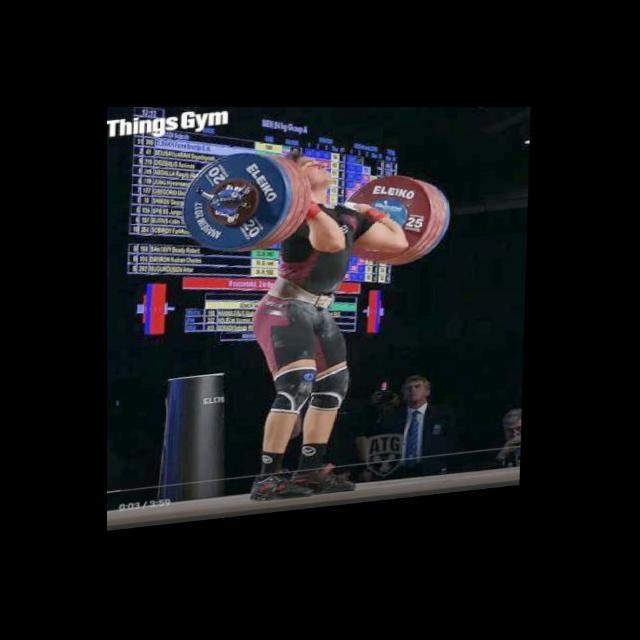barbell: (180, 149, 293, 263)
